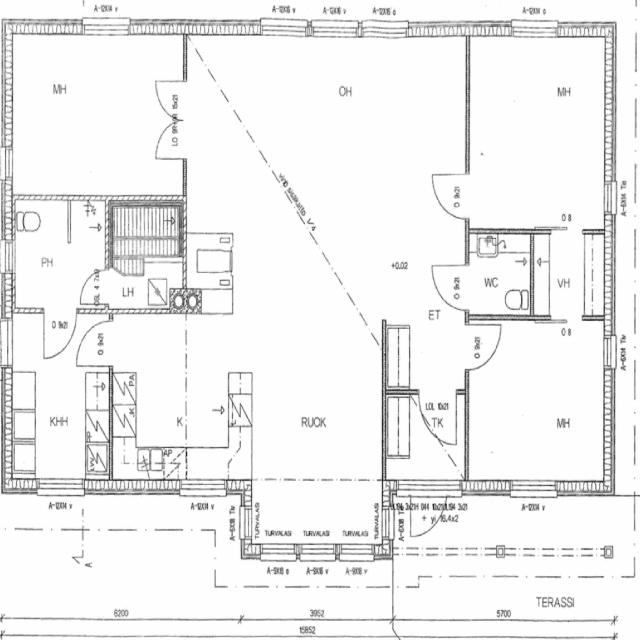door: (411, 481, 447, 544), (419, 389, 456, 444), (76, 321, 112, 366), (465, 324, 501, 369), (432, 265, 468, 310), (44, 308, 76, 358), (432, 174, 468, 218), (156, 120, 187, 158), (156, 82, 187, 120), (81, 270, 108, 304), (0, 320, 12, 365)
